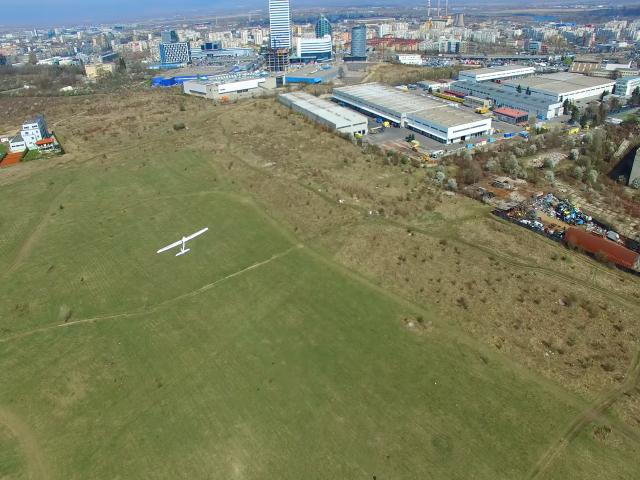plane: (156, 226, 210, 256)
